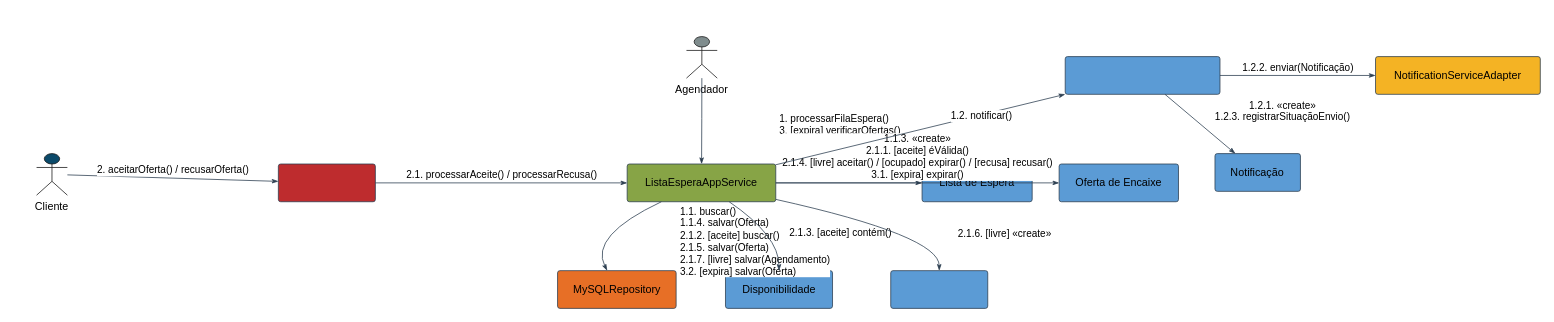
The diagram is 1554 pixels wide and 322 high, and some of its shapes have lost their labels. The shapes that lost their labels are listed below. From the top down, each one's centre as x and y in pixels, then its label:
At (x=1142, y=75): "ComunicacaoAppService".
At (x=326, y=182): "WebFrontend".
At (x=939, y=289): "Agendamento".
